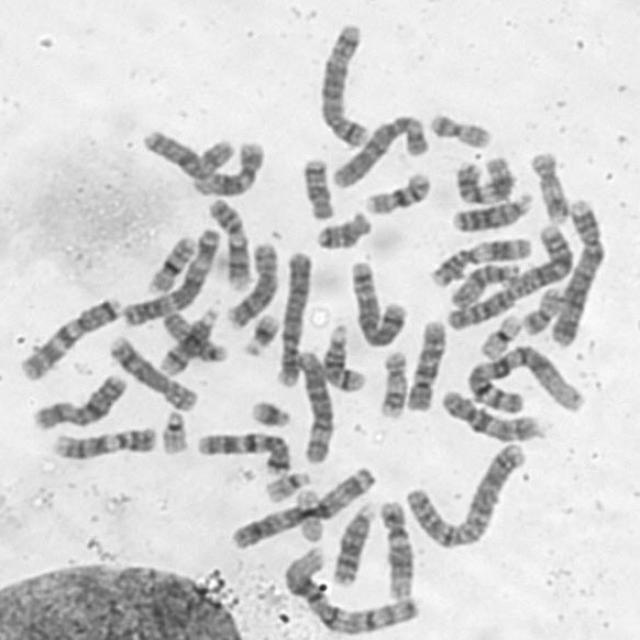A1: (282, 543, 420, 637), (463, 343, 588, 416)
A2: (442, 221, 577, 332), (401, 439, 529, 551)
A3: (227, 464, 381, 550), (118, 225, 223, 326)
B4: (545, 196, 607, 346), (272, 248, 314, 389)
B5: (316, 20, 370, 149), (345, 256, 408, 347)
C10: (437, 386, 542, 443), (402, 316, 448, 414)
C11: (427, 232, 531, 289), (452, 153, 516, 206)
C12: (188, 136, 266, 198), (377, 496, 415, 600)
C6: (329, 111, 430, 190), (292, 346, 334, 466)
C7: (18, 294, 123, 381), (192, 428, 292, 477)
C8: (106, 332, 199, 412), (222, 237, 279, 331)
C9: (204, 196, 253, 292), (48, 423, 158, 462)
D13: (329, 500, 377, 586), (448, 188, 534, 233)
D14: (158, 304, 225, 372), (320, 321, 367, 392)
D15: (447, 260, 522, 310), (160, 312, 231, 364)
E16: (143, 232, 200, 296), (360, 168, 432, 217)
E17: (528, 149, 570, 225), (376, 348, 409, 420)
E18: (311, 209, 374, 252), (299, 154, 336, 221)
F19: (475, 310, 525, 360), (292, 484, 326, 543)
F20: (426, 110, 494, 150), (519, 285, 564, 336)
G21: (238, 311, 282, 358), (246, 396, 292, 429)
G22: (260, 469, 314, 503), (157, 408, 190, 455)
X: (30, 372, 128, 431), (140, 125, 234, 183)
